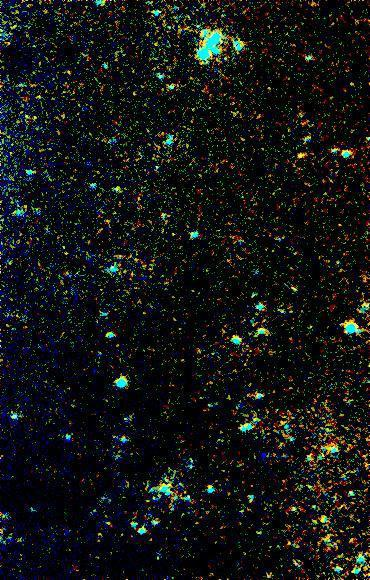star: (288, 140, 318, 170)
